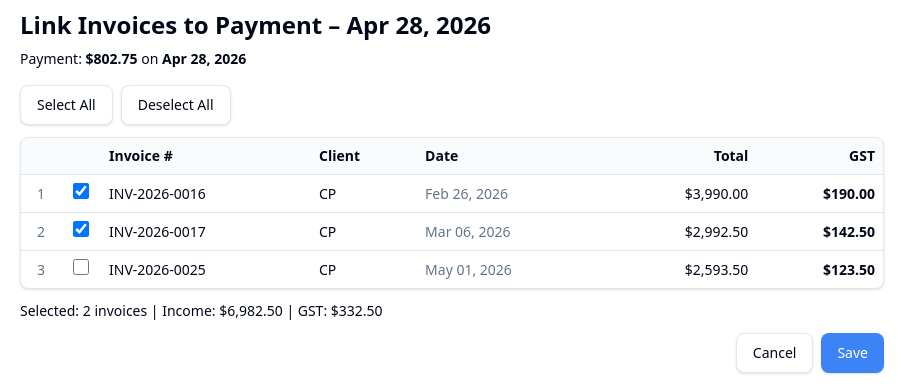
Scenario: LinkTaxInvoices dialog › Select All / Deselect All update the selection
The width and height of the screenshot is (901, 391).
Expected: the checkbox named "Toggle INV-2026-0016" is shown, [73,183,89,199]
Click the button "Select All" at (66, 105), box [20,85,113,125]
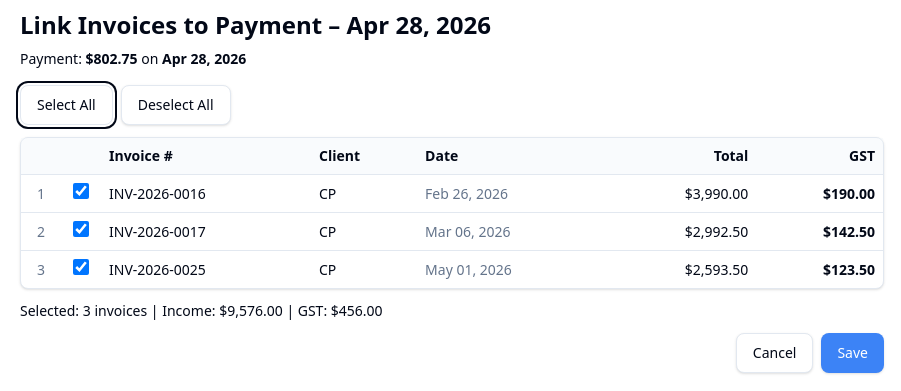
Now the text "Selected: 3 invoices | Income: $9,576.00 | GST: $456.00" is shown, box [20,301,383,320]
Click the button "Deselect All" at (176, 105), box [121,85,230,125]
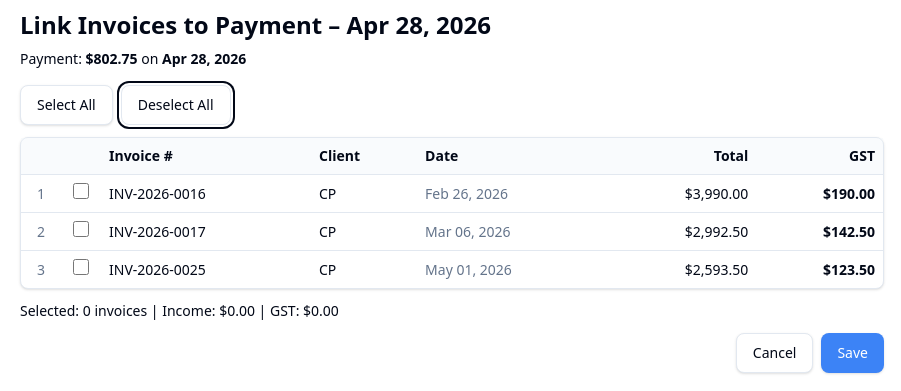
Now the text "Selected: 0 invoices | Income: $0.00 | GST: $0.00" is shown, box [20,301,339,320]
